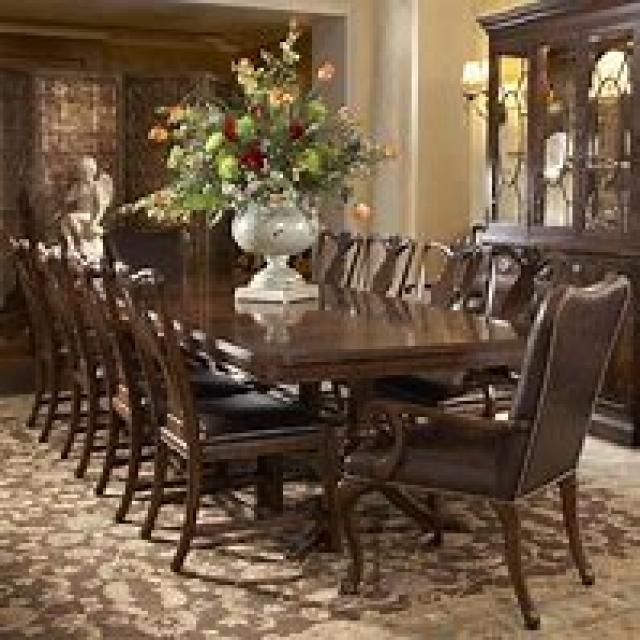chair: (334, 268, 630, 627)
